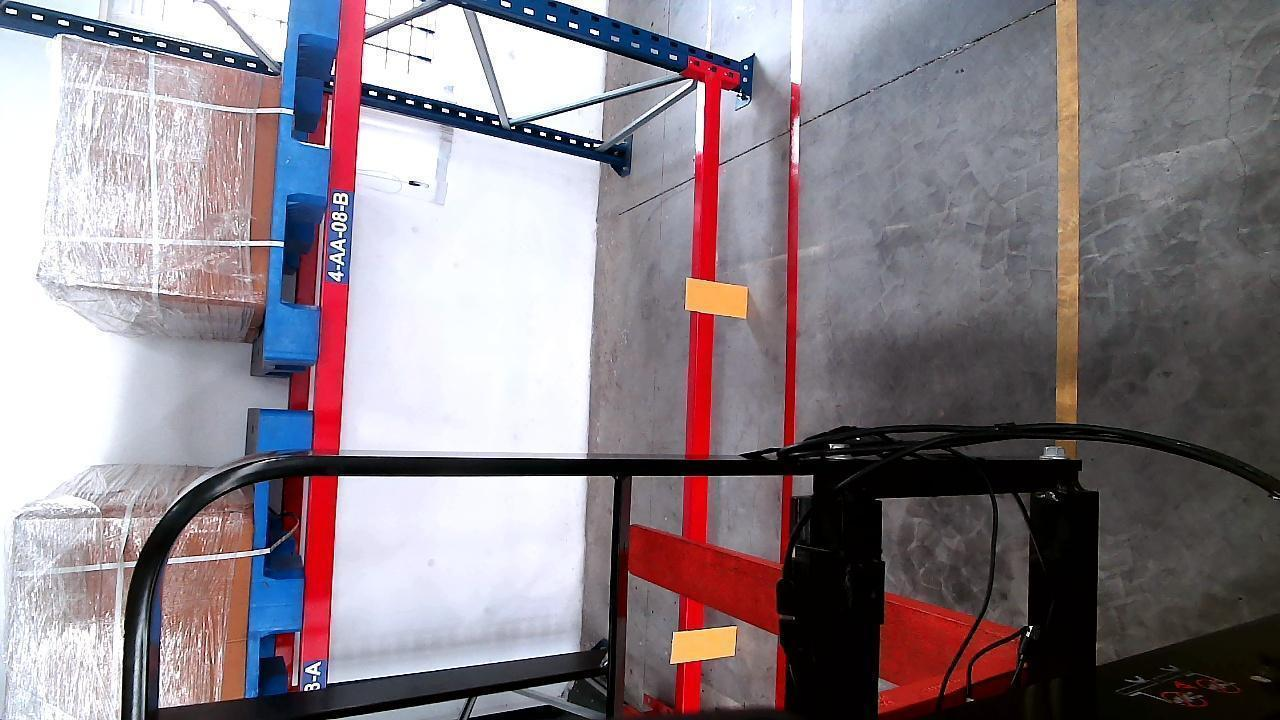red_line: (774, 4, 805, 713)
yellow_line: (1056, 0, 1082, 428)
